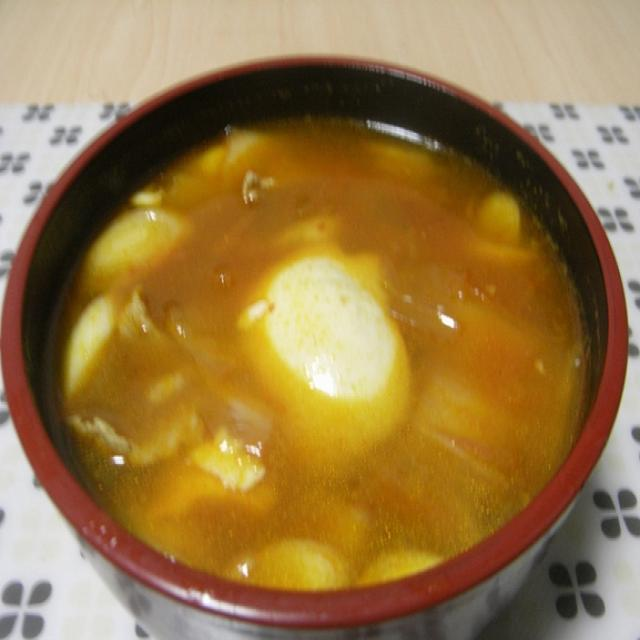汤锅炖物: (11, 37, 621, 618)
